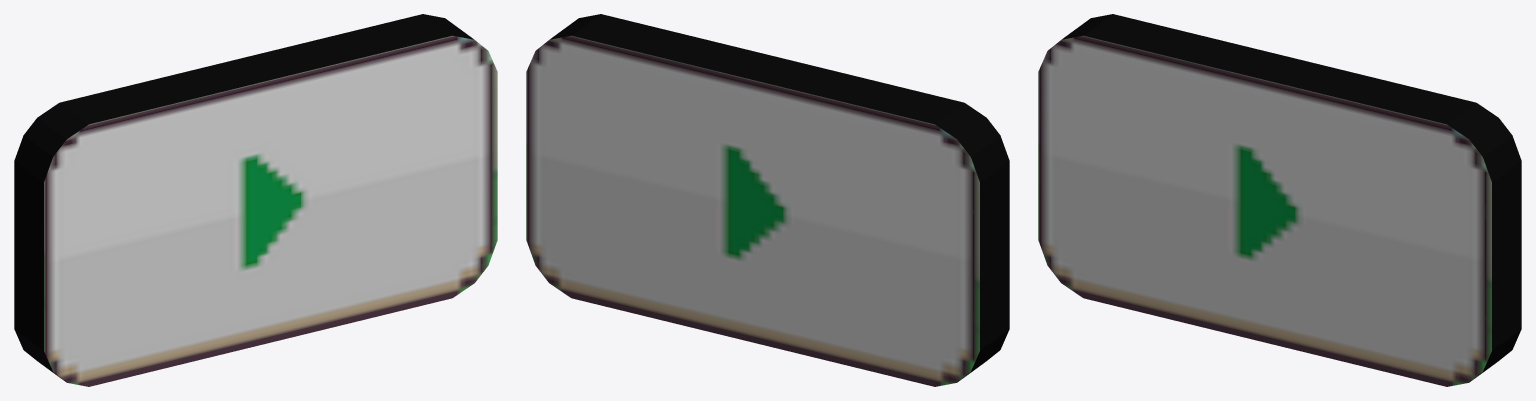
Rendered from icon2.fbx.
The picture shows the model from 3 angles, left to right: view 1: azimuth 30°, elevation 25°; view 2: azimuth 150°, elevation 25°; view 3: azimuth 330°, elevation 25°; orthographic projection.
Parts seen in each view (by area): view 1: icon002_black_0; view 2: icon002_black_0; view 3: icon002_black_0.
Part boxes in pixels (bbox=[...]): icon002_black_0: bbox=[14, 14, 497, 386]; icon002_black_0: bbox=[526, 14, 1009, 386]; icon002_black_0: bbox=[1038, 14, 1521, 386].
Size of the model in its own units: 17.69 by 9.78 by 2.
